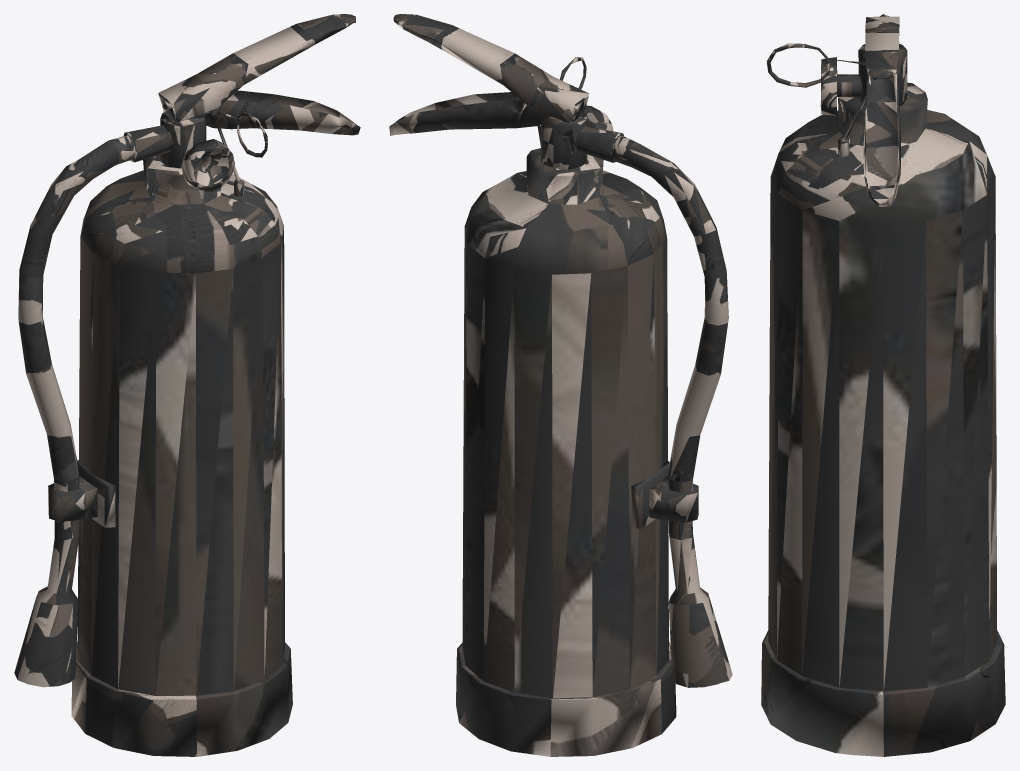
Rendered from Extinguisher.fbx.
The picture shows the model from 3 angles, left to right: view 1: azimuth 30°, elevation 25°; view 2: azimuth 150°, elevation 25°; view 3: azimuth 270°, elevation 25°; orthographic projection. The views are drawn at different scales.
Visible parts, largest first — view 1: PROP_Extinguisher; view 2: PROP_Extinguisher; view 3: PROP_Extinguisher.
Part boxes in pixels (x1,y1,x2,y2): PROP_Extinguisher: (14, 14, 360, 756); PROP_Extinguisher: (389, 14, 732, 756); PROP_Extinguisher: (761, 14, 1005, 756).
Bounding box in the file's own units: 29.97 × 55 × 16.92.
